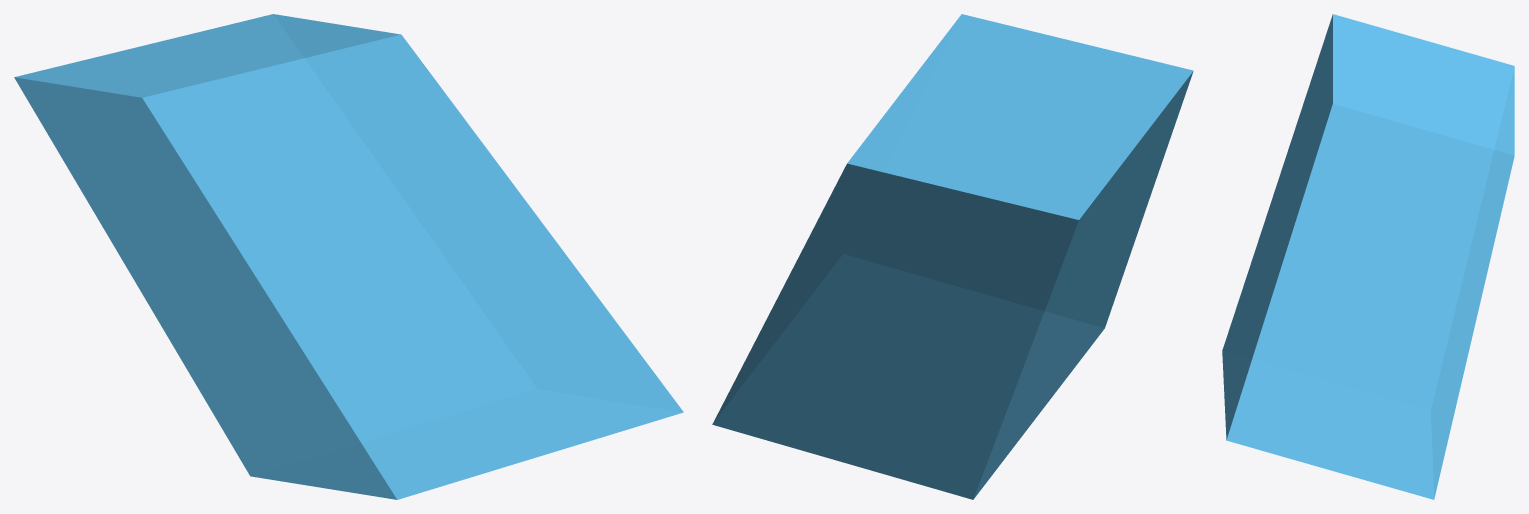
Rendered from Event_420604493_HBrechit_33.fbx.
3 views of the same model, side by side, from view 1: azimuth 30°, elevation 25°; view 2: azimuth 150°, elevation 25°; view 3: azimuth 270°, elevation 25° (orthographic). The views are drawn at different scales.
Parts seen in each view (by area): view 1: Model; view 2: Model; view 3: Model.
Boxes of the visible parts, bbox=[...] form: Model: bbox=[14, 14, 683, 499]; Model: bbox=[712, 14, 1193, 499]; Model: bbox=[1222, 14, 1514, 499].
Size of the model in its own units: 0.8054 by 0.779 by 0.6161.
